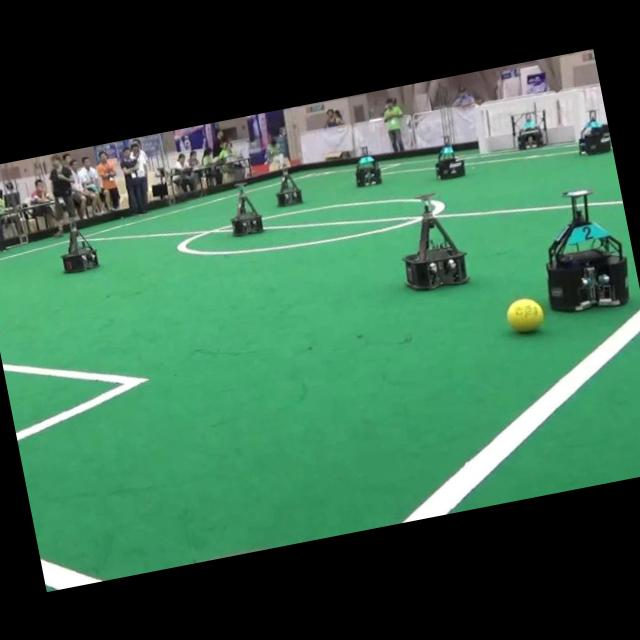ball: (506, 298, 544, 332)
goal: (473, 105, 488, 152), (569, 92, 582, 140)
robot: (547, 189, 629, 310), (404, 193, 468, 289), (61, 227, 98, 272), (511, 109, 549, 150), (231, 188, 263, 235), (578, 109, 611, 154), (435, 143, 465, 178), (276, 168, 302, 205), (355, 154, 381, 186)
